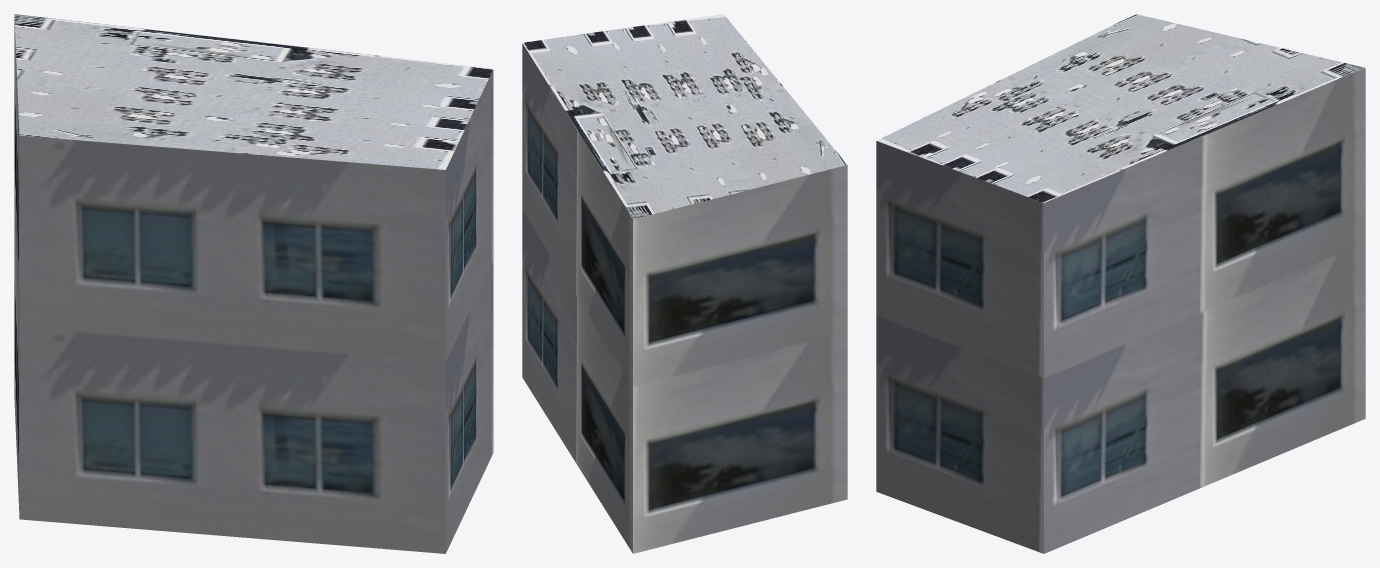
The model's file is ResTex__443.fbx.
3 views of the same model, side by side, from view 1: azimuth 30°, elevation 25°; view 2: azimuth 150°, elevation 25°; view 3: azimuth 270°, elevation 25° (orthographic). The views are drawn at different scales.
Parts seen in each view (by area): view 1: CityEngineMaterial_10_m, CityEngineMaterial_8_m; view 2: CityEngineMaterial_10_m, CityEngineMaterial_8_m; view 3: CityEngineMaterial_10_m, CityEngineMaterial_8_m.
Boxes of the visible parts, x1,y1,x2,y2 form: CityEngineMaterial_10_m: [14, 16, 493, 553]; CityEngineMaterial_8_m: [14, 14, 493, 169]; CityEngineMaterial_10_m: [522, 43, 847, 553]; CityEngineMaterial_8_m: [522, 14, 847, 219]; CityEngineMaterial_10_m: [876, 68, 1365, 553]; CityEngineMaterial_8_m: [876, 14, 1365, 202].
Size of the model in its own units: 6.93 by 6 by 7.58.
2 materials, 2 textured.
